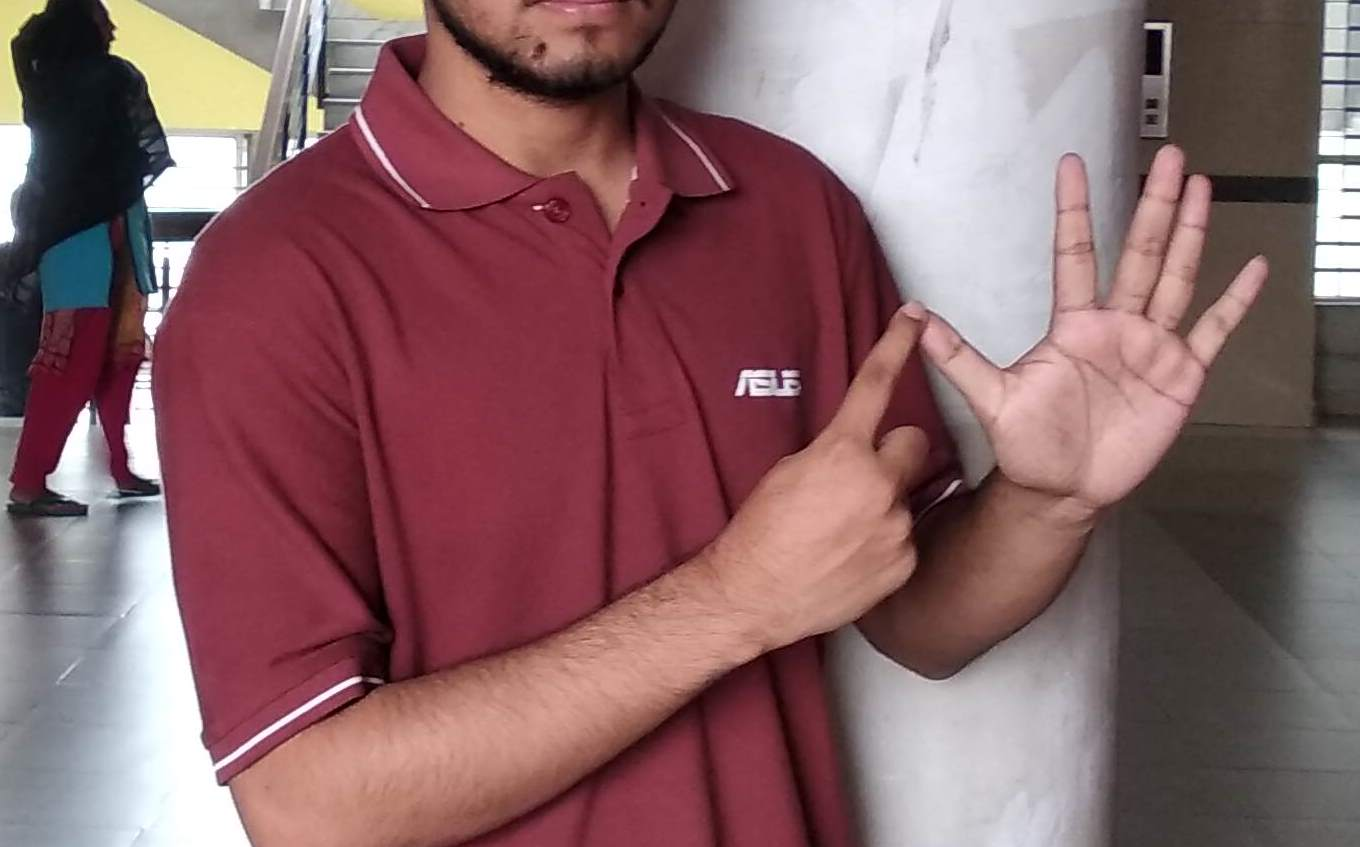a: (763, 150, 1264, 635)
